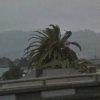Palm tree: (27, 19, 90, 75)
